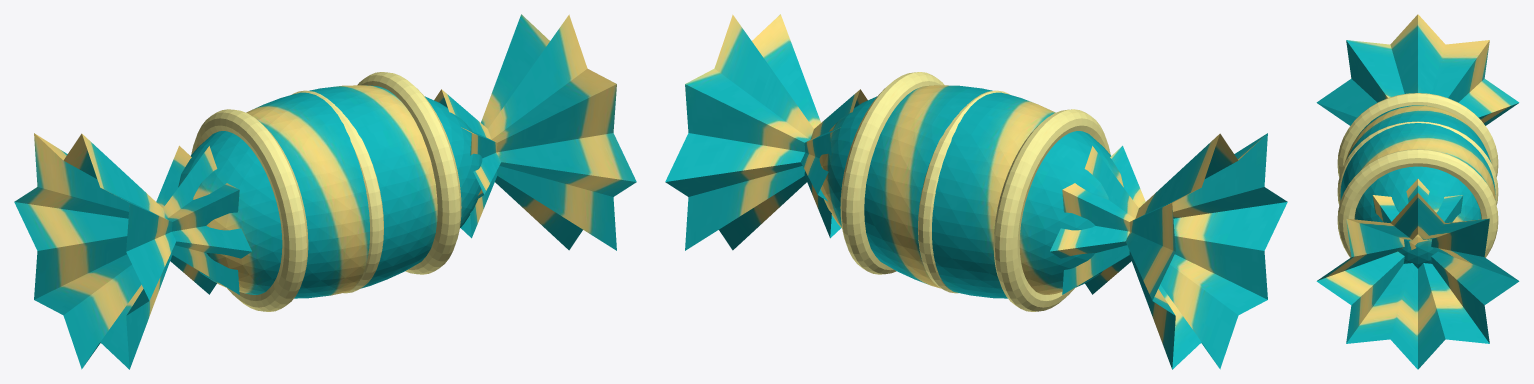
The model's file is candy-cartoon3.glb.
3 views of the same model, side by side, from view 1: azimuth 30°, elevation 25°; view 2: azimuth 150°, elevation 25°; view 3: azimuth 270°, elevation 25° (orthographic). The views are drawn at different scales.
Visible parts, largest first — view 1: Candy; view 2: Candy; view 3: Candy.
Part boxes in pixels (left/top/right/bottom): Candy: left=14, top=14, right=636, bottom=369; Candy: left=665, top=14, right=1287, bottom=369; Candy: left=1316, top=14, right=1519, bottom=369.
Bounding box in the file's own units: 2.69 × 1.25 × 1.3.
Materials: 3 (3 with a texture image).
